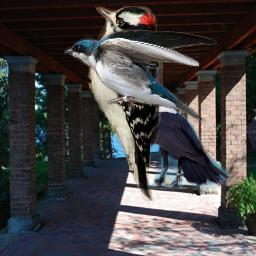Crow: (118, 87, 230, 189)
Swallow: (64, 28, 217, 122)
Woodpecker: (85, 6, 163, 201)
